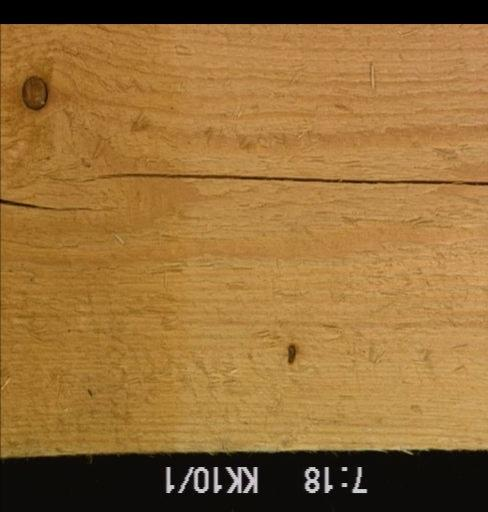dry_knot: (19, 74, 48, 111), (284, 342, 297, 366)
split: (94, 171, 486, 186), (0, 197, 106, 212)
